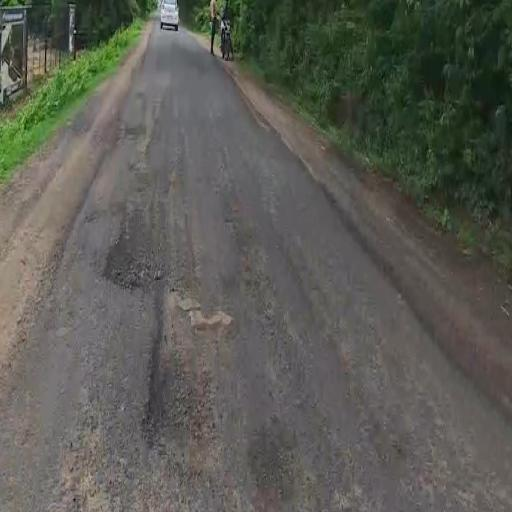ravelling: (83, 172, 293, 500)
